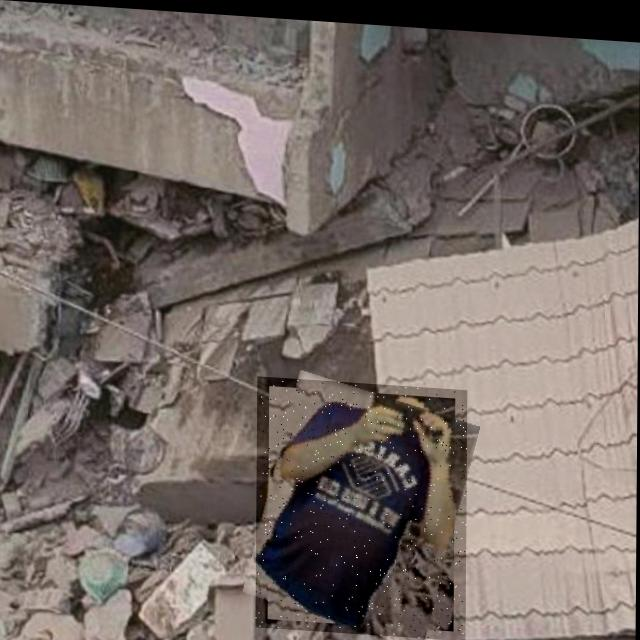Person in Rubble: (256, 373, 468, 635)
